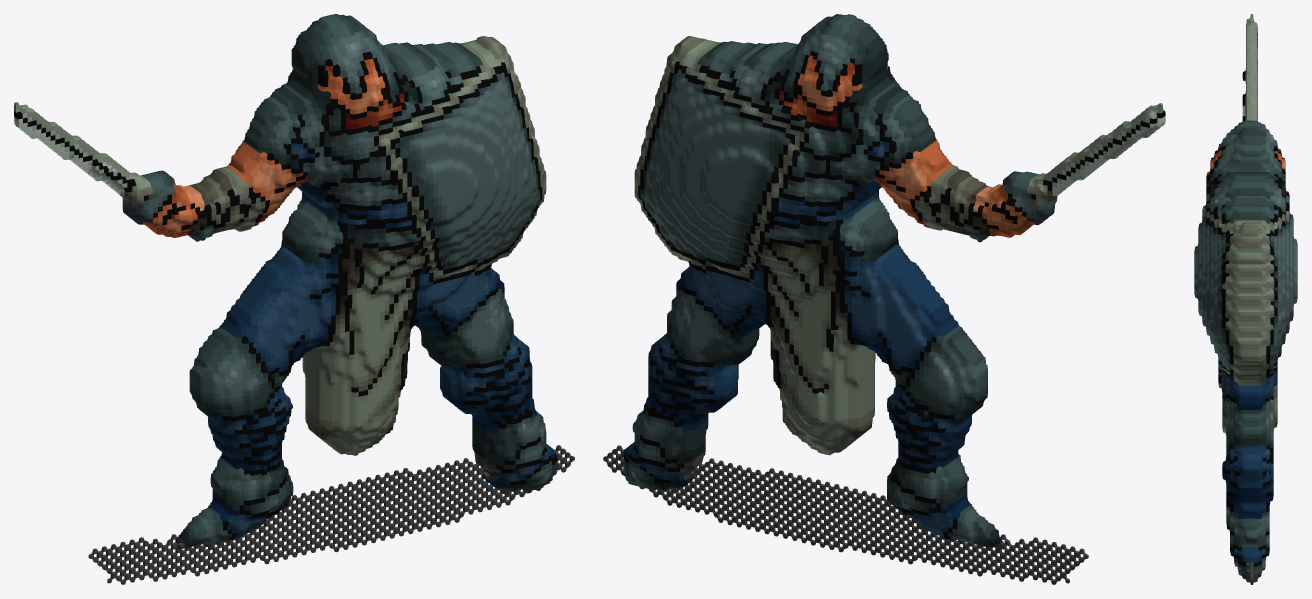
Rendered from Fight_704_2_03.obj.
3 renders of one model, left to right at view 1: azimuth 30°, elevation 25°; view 2: azimuth 150°, elevation 25°; view 3: azimuth 270°, elevation 25°, orthographic. The views are drawn at different scales.
Size of the model in its own units: 12.08 by 10.98 by 2.6.
1 material, 1 textured.
